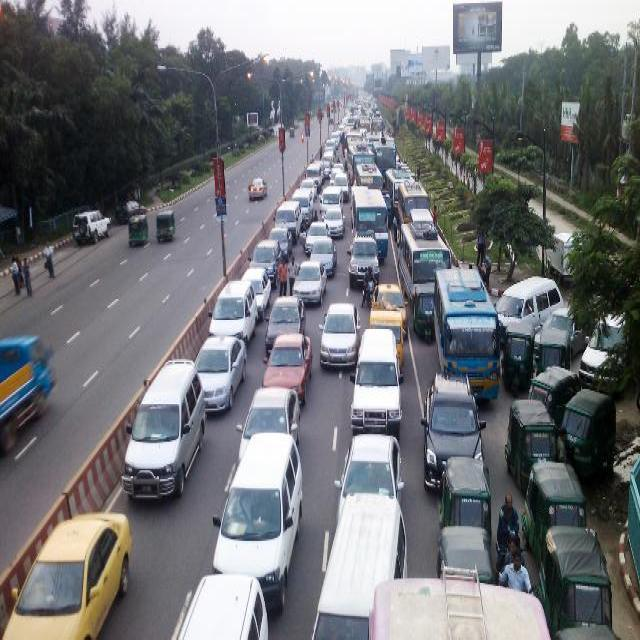Bus: (429, 250, 500, 379)
Car: (322, 284, 366, 374)
MiniBus: (122, 350, 189, 492)
TokTok: (110, 202, 170, 243)
